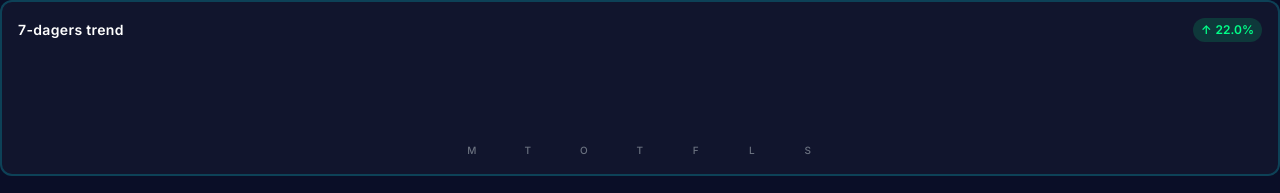
MiniBarChart › viser tooltip ved hover
Step 1. Hover over the element showing "M" → (472, 150), box x1=467 y1=144 x2=477 y2=156
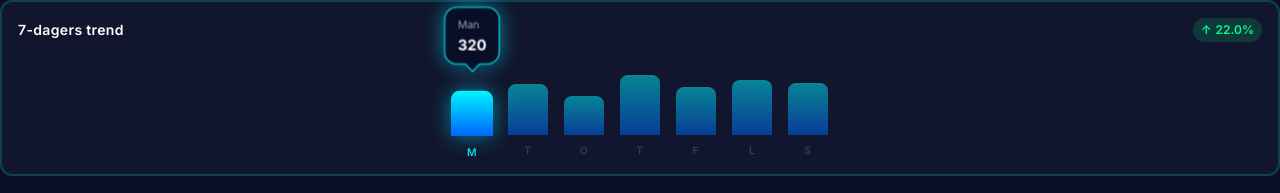
Check: the text "320" is shown, box x1=458 y1=34 x2=486 y2=55
